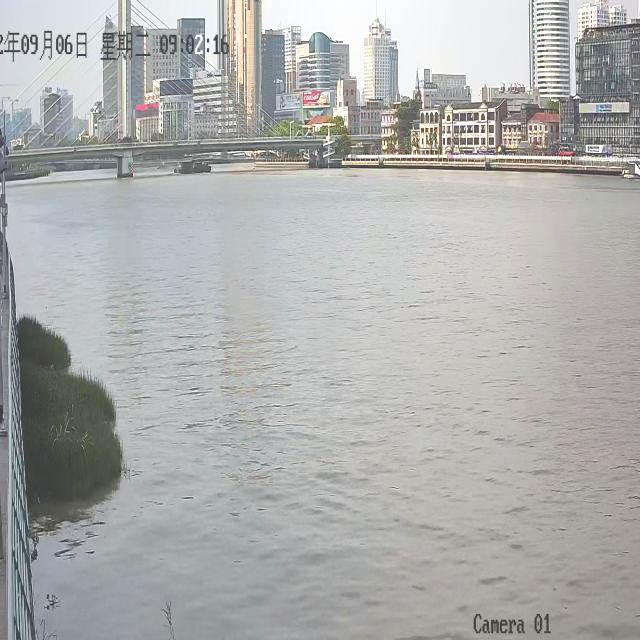ship: (173, 160, 211, 173), (157, 161, 166, 168)
